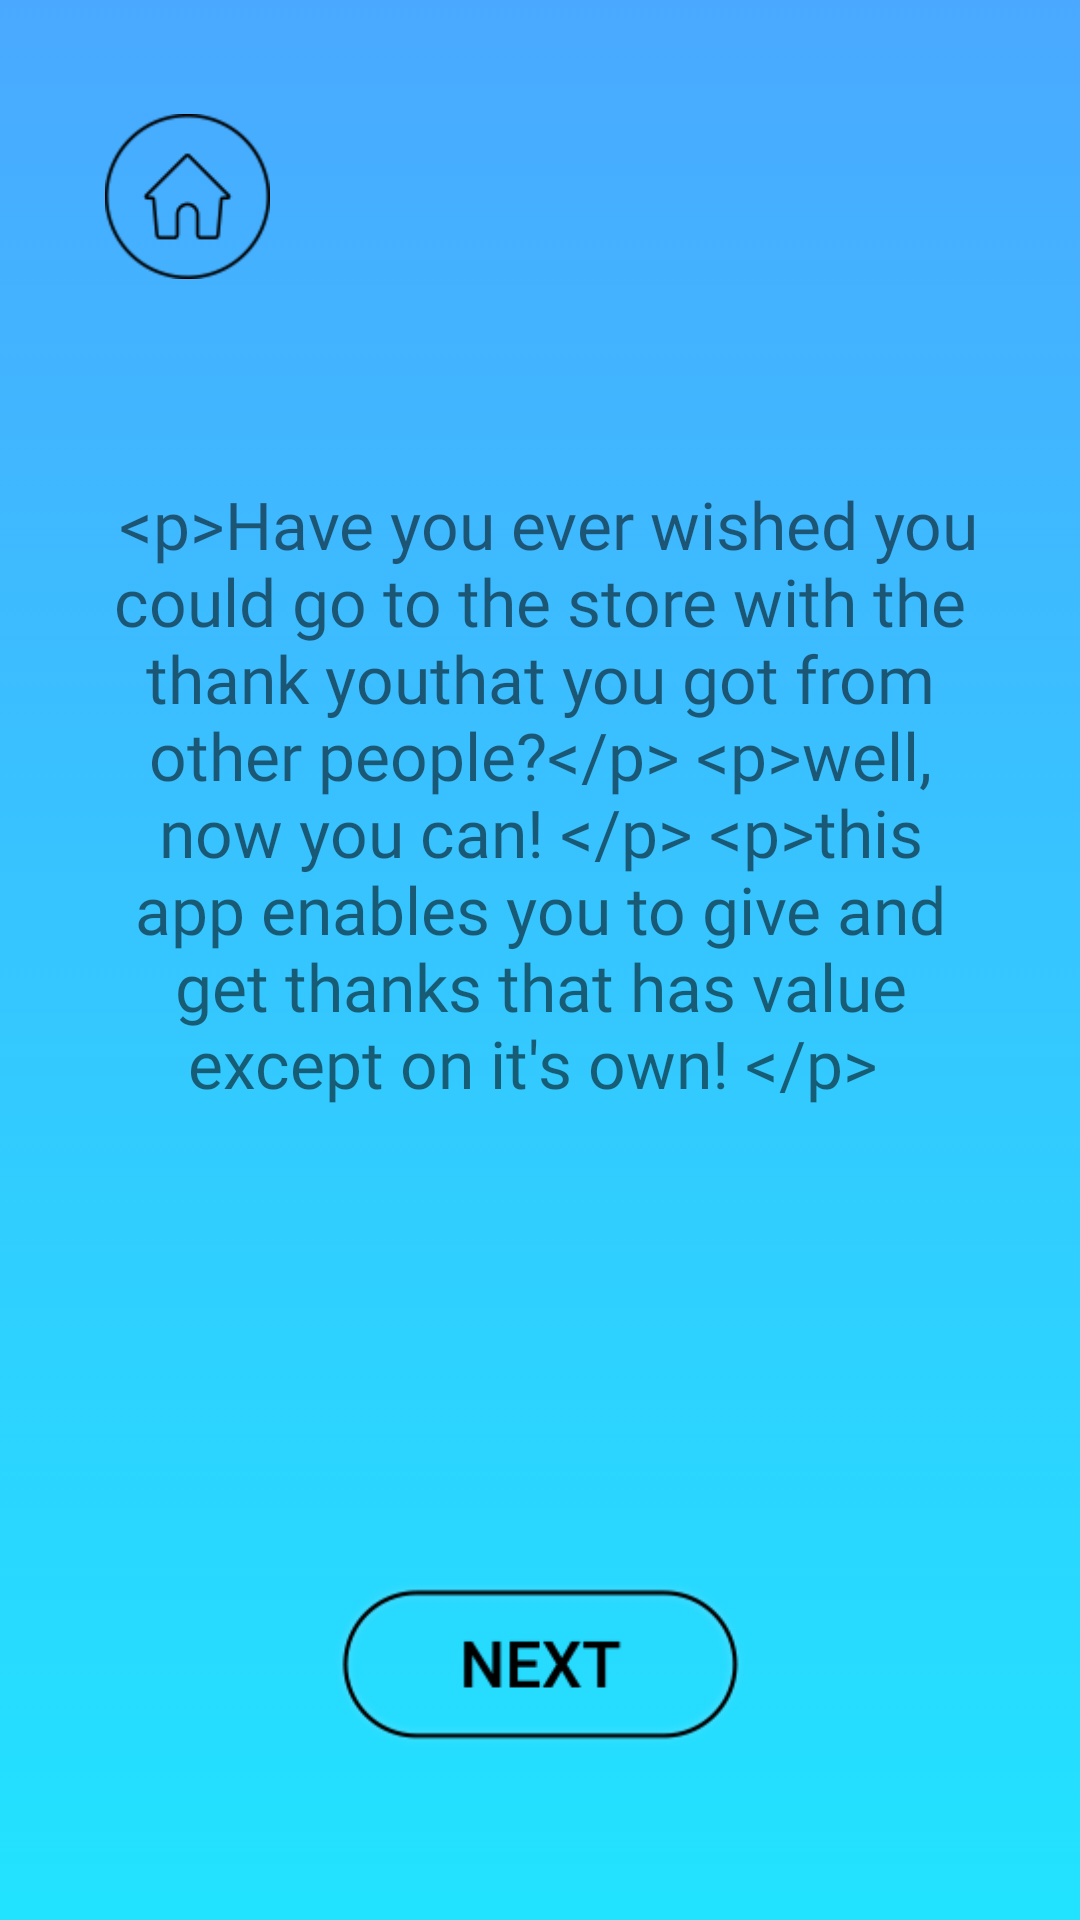

Point at icon controls on the screen. Image size 1080*1920, points as [x,y].
home: [187,196]
